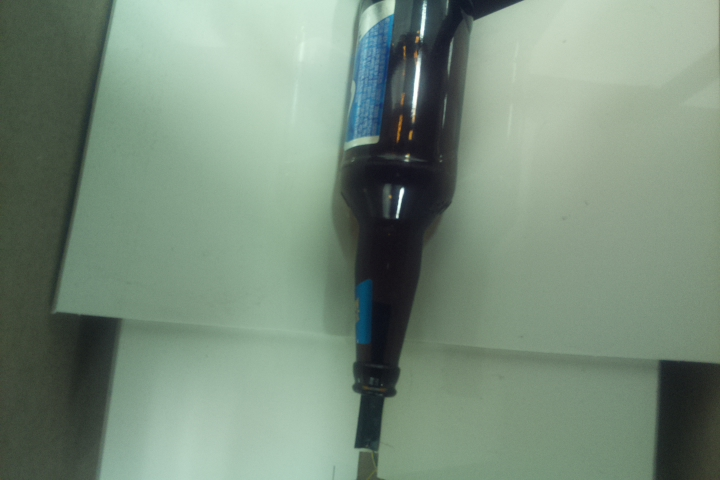makju: (333, 1, 476, 399)
